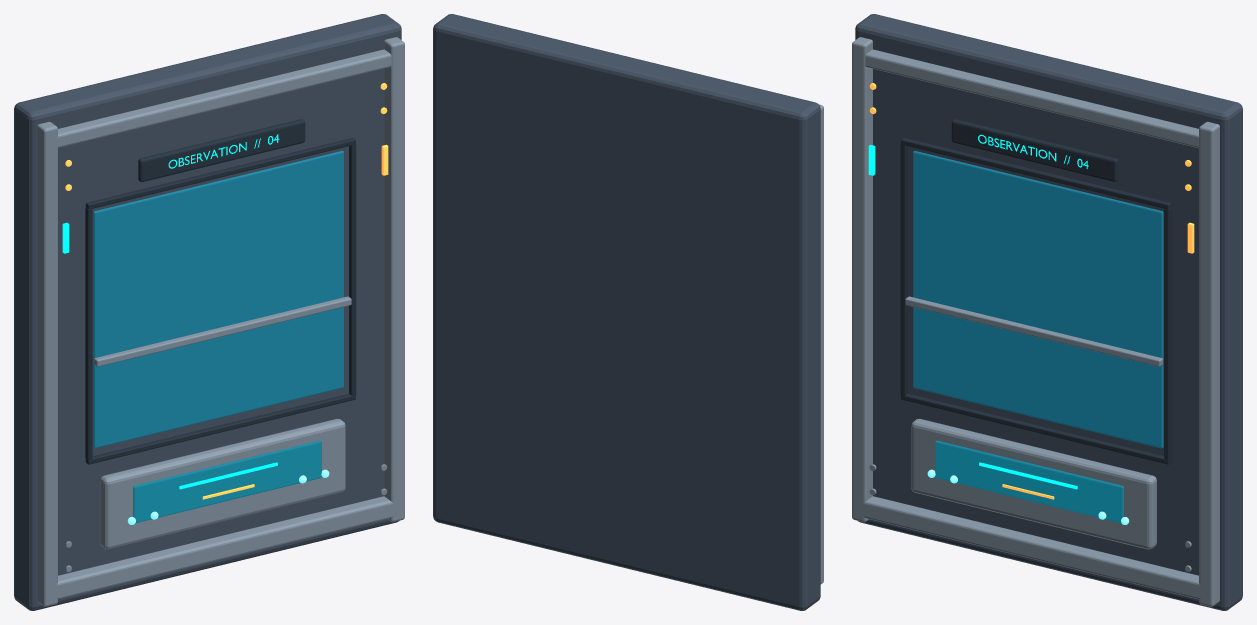
Rendered from sector11_observation_module_v1.glb.
The picture shows the model from 3 angles, left to right: view 1: azimuth 30°, elevation 25°; view 2: azimuth 150°, elevation 25°; view 3: azimuth 330°, elevation 25°; orthographic projection.
Parts seen in each view (by area): view 1: Sector11ObservationModule; view 2: Sector11ObservationModule; view 3: Sector11ObservationModule.
Boxes of the visible parts, box(x1,y1,x2,y2) form: Sector11ObservationModule: box(14, 14, 404, 610); Sector11ObservationModule: box(433, 14, 823, 610); Sector11ObservationModule: box(852, 14, 1242, 610).
Size of the model in its own units: 5.65 by 7.2 by 0.835.
